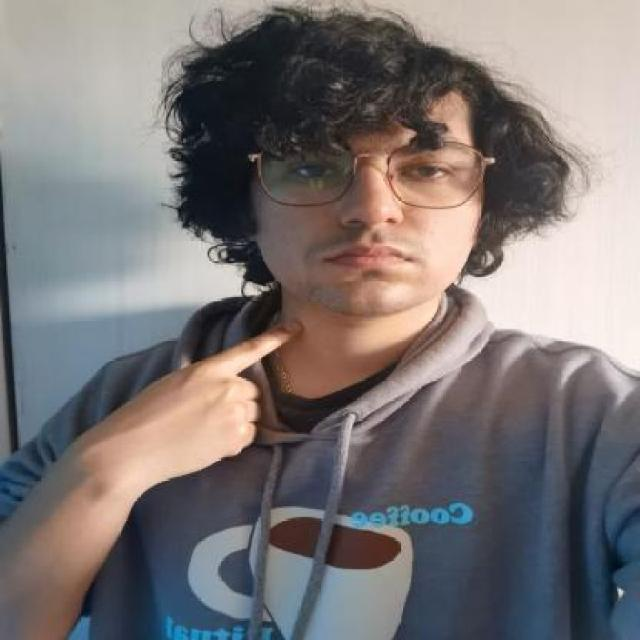Q: (95, 317, 303, 471)
